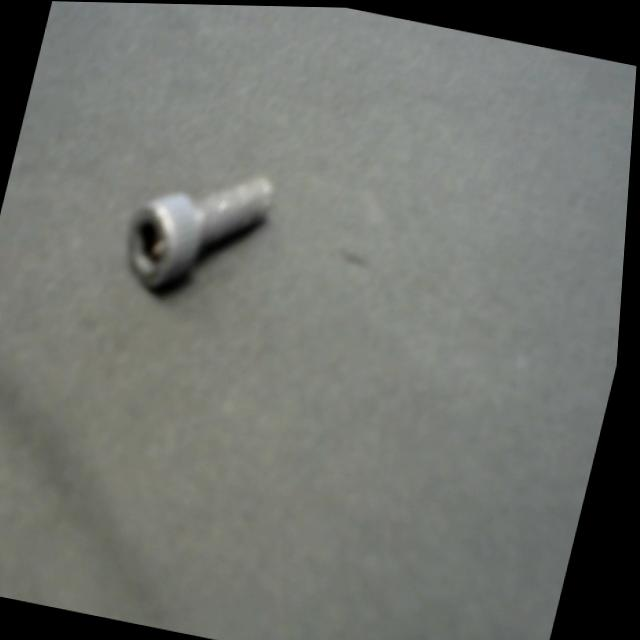SocketHeadCapScrew: (103, 136, 293, 331)
